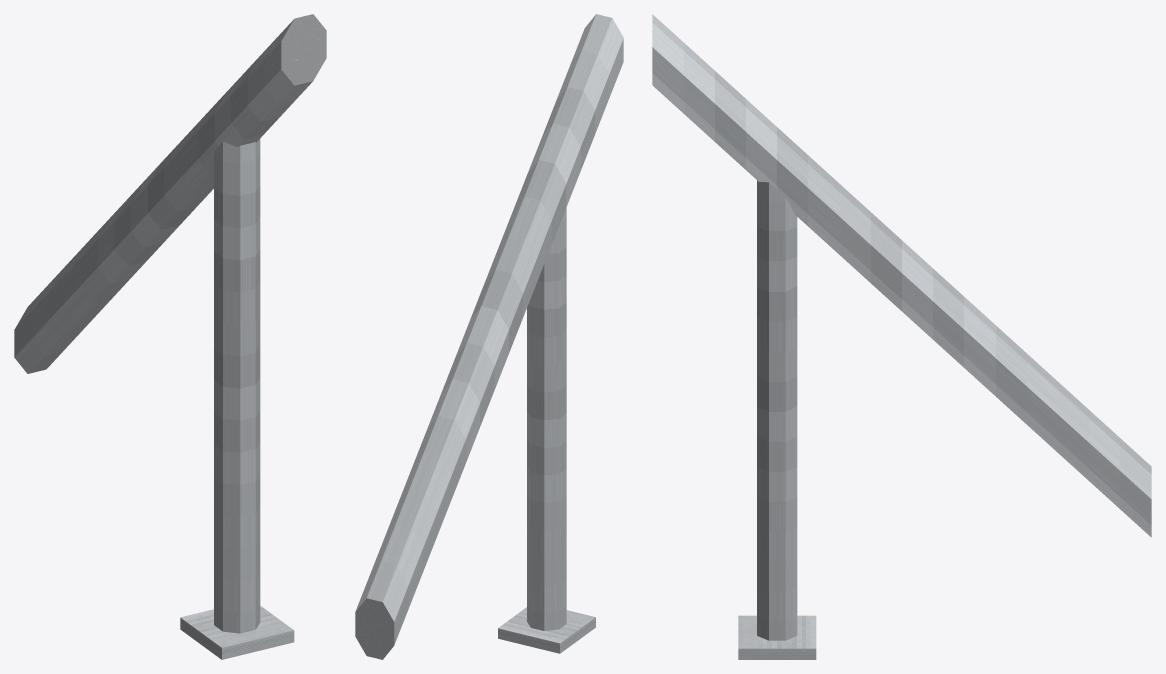
The model's file is handrail_steep.obj.
The picture shows the model from 3 angles, left to right: view 1: azimuth 30°, elevation 25°; view 2: azimuth 150°, elevation 25°; view 3: azimuth 270°, elevation 25°; orthographic projection. The views are drawn at different scales.
Parts seen in each view (by area): view 1: handrail_steep; view 2: handrail_steep; view 3: handrail_steep.
Boxes of the visible parts, box(x1,y1,x2,y2) form: handrail_steep: box(14, 14, 326, 659); handrail_steep: box(355, 14, 623, 659); handrail_steep: box(652, 14, 1151, 659).
Size of the model in its own units: 0.1562 by 1.38 by 1.
